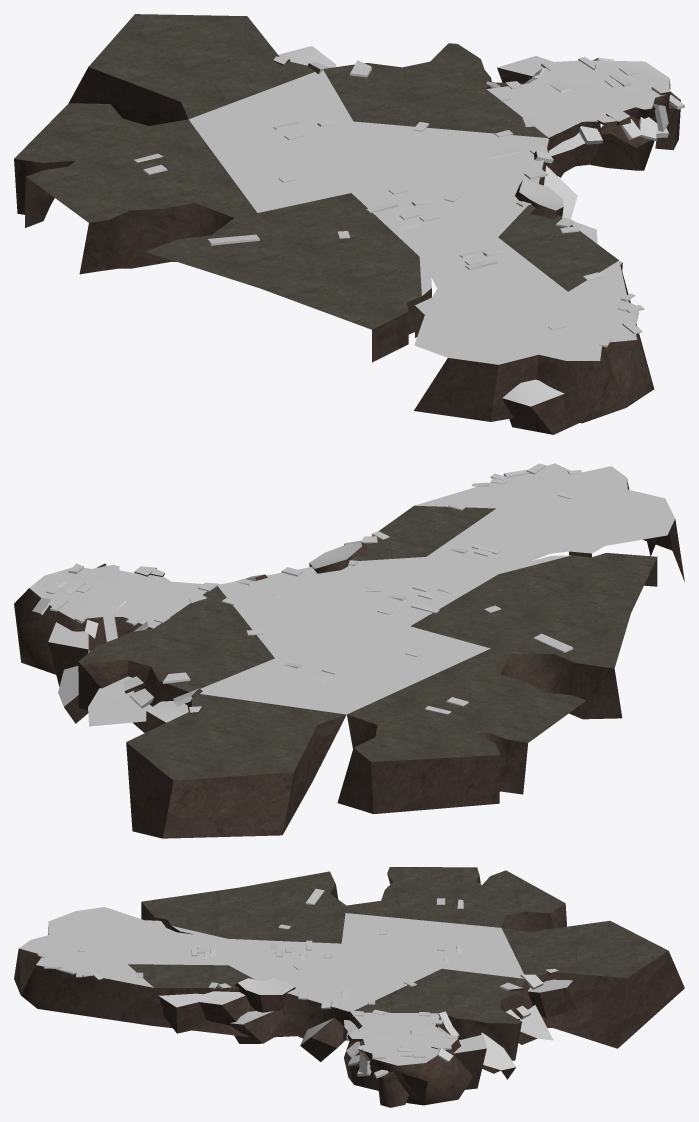
The model's file is terrain_section03_guanka07.FBX.
3 views of the same model, one above another, from view 1: azimuth 30°, elevation 25°; view 2: azimuth 150°, elevation 25°; view 3: azimuth 270°, elevation 25° (orthographic). The views are drawn at different scales.
Visible parts, largest first — view 1: terrain_section03_guanka07; view 2: terrain_section03_guanka07; view 3: terrain_section03_guanka07.
Part boxes in pixels (<box>): terrain_section03_guanka07: <box>14,14,684,434</box>; terrain_section03_guanka07: <box>14,463,684,838</box>; terrain_section03_guanka07: <box>14,867,684,1107</box>.
Bounding box in the file's own units: 81.68 × 115 × 14.43.
